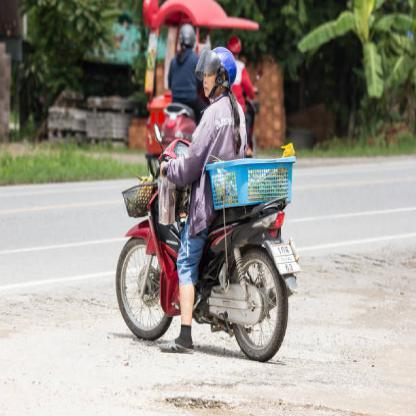Motorcycle: (117, 126, 298, 357)
